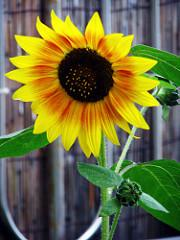sunflower: (9, 11, 159, 154)
